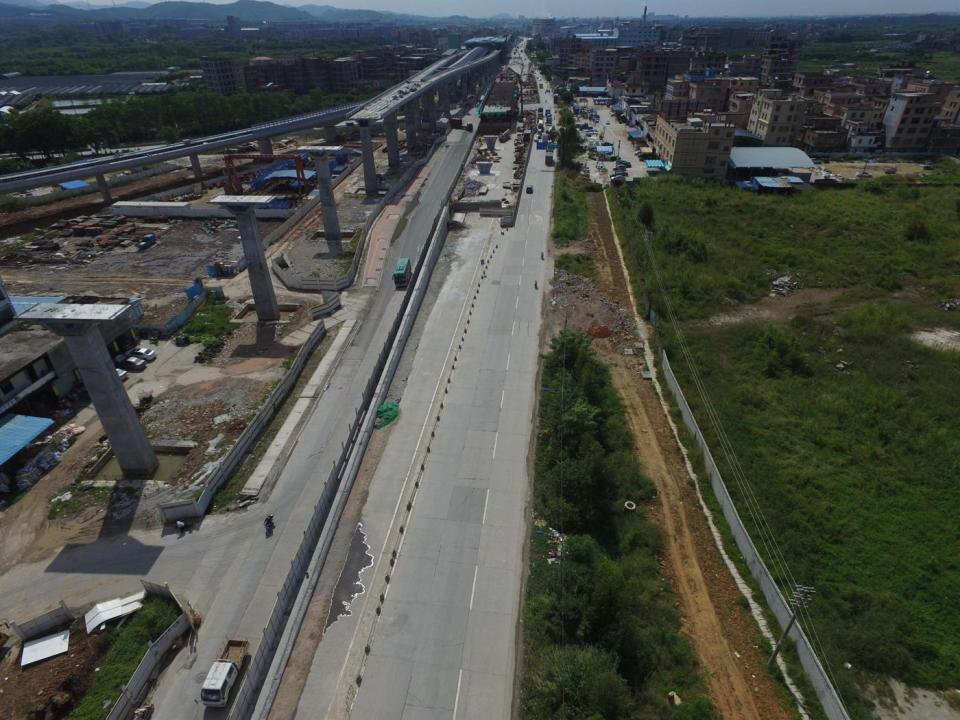bus: (393, 258, 411, 289)
car: (115, 355, 147, 369), (102, 368, 128, 382), (131, 348, 154, 360), (610, 172, 626, 178), (856, 172, 872, 178), (610, 176, 625, 182), (614, 170, 629, 176), (807, 158, 822, 164), (618, 162, 631, 168), (614, 164, 626, 170), (618, 160, 629, 166), (633, 150, 644, 155), (640, 156, 651, 161), (638, 154, 650, 158), (610, 112, 618, 116), (534, 136, 538, 142), (606, 119, 610, 124), (537, 134, 541, 138)
truck: (199, 636, 248, 706), (134, 234, 156, 249), (450, 118, 472, 132), (545, 146, 553, 166), (883, 167, 897, 174), (545, 106, 551, 119), (542, 132, 548, 144), (553, 93, 559, 104), (538, 106, 543, 118)
van: (526, 185, 533, 194)
